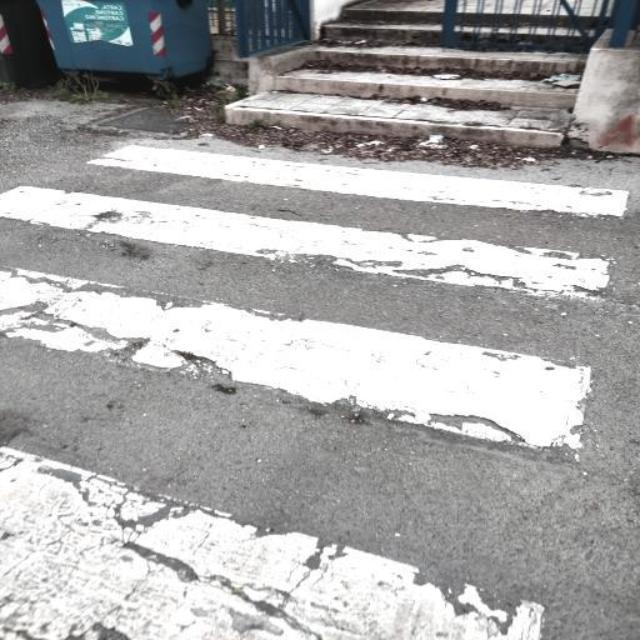sidewalk: (0, 128, 629, 640)
